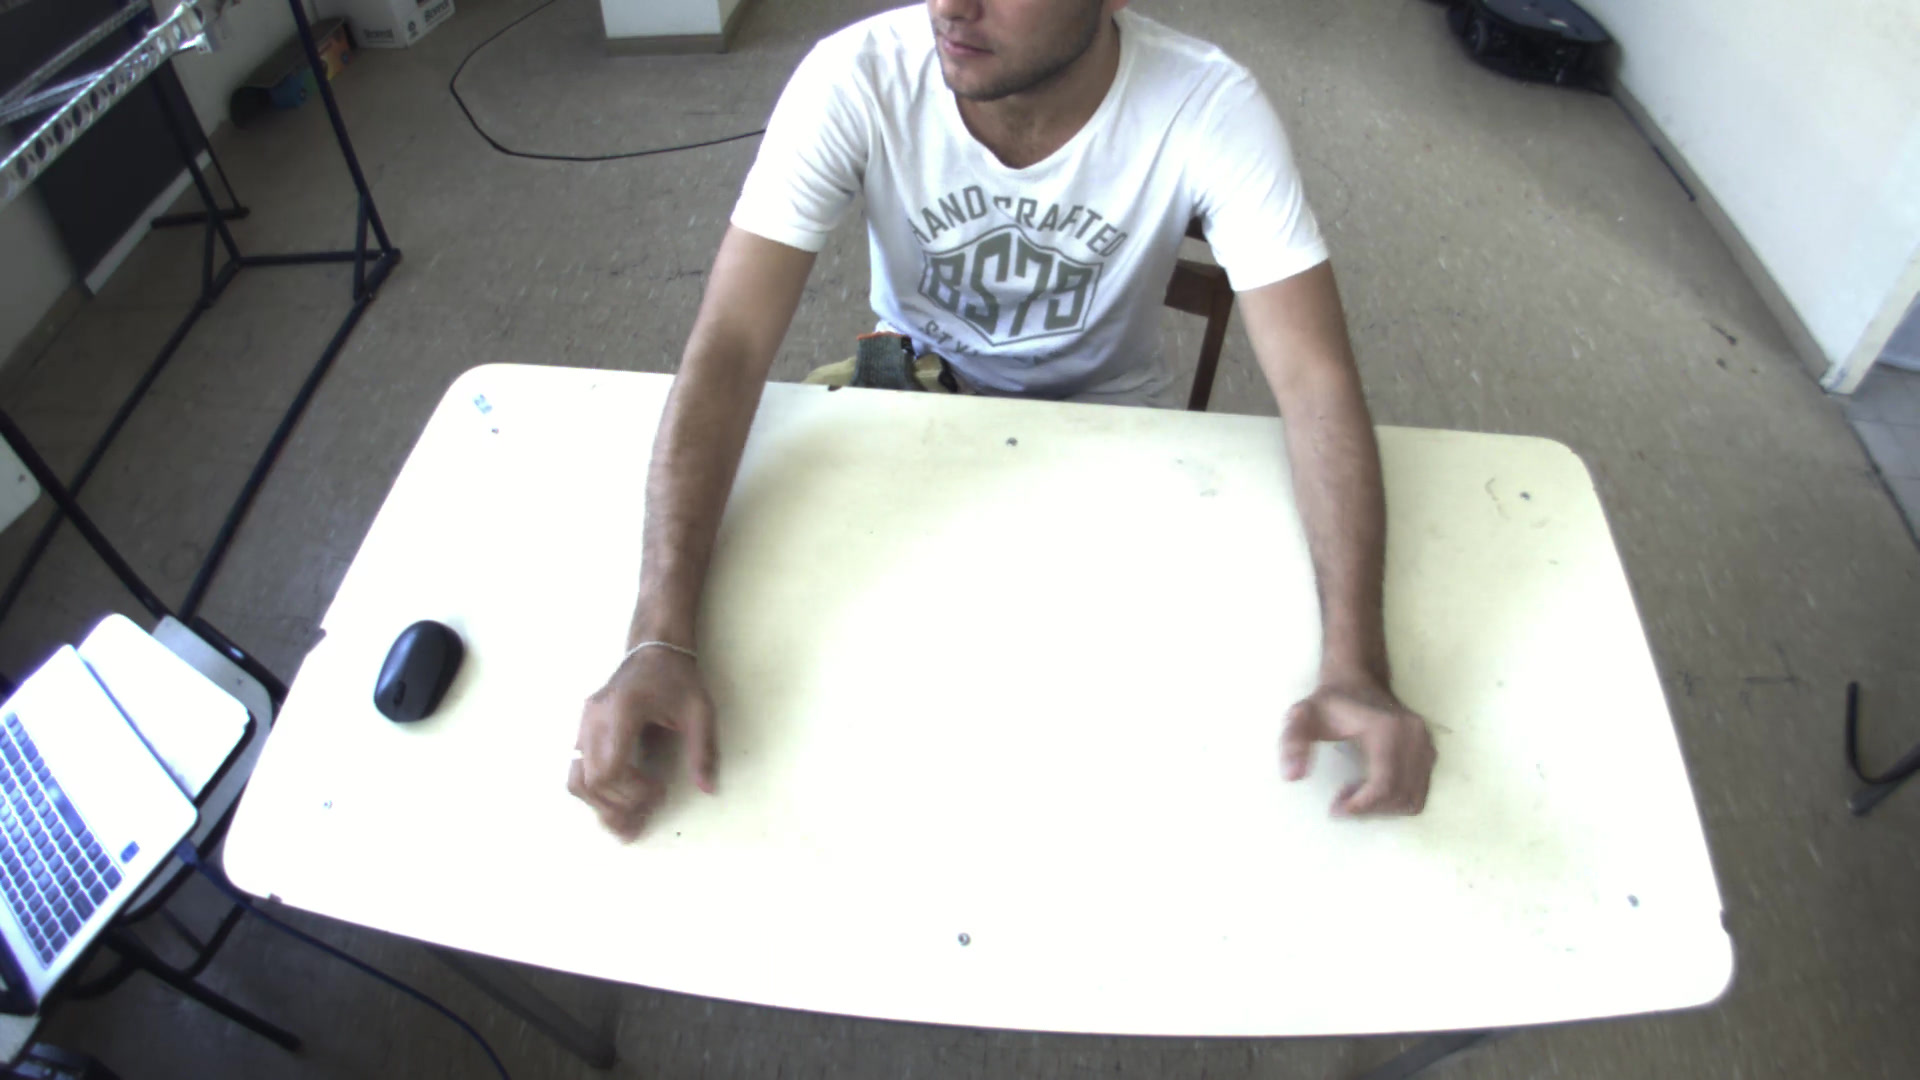hand: (555, 626, 719, 843), (1274, 657, 1462, 827)
